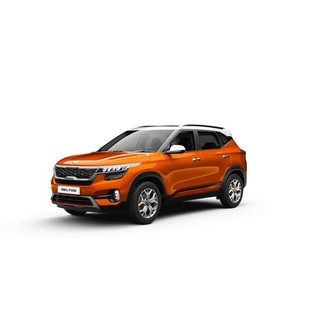car: (52, 123, 248, 224)
